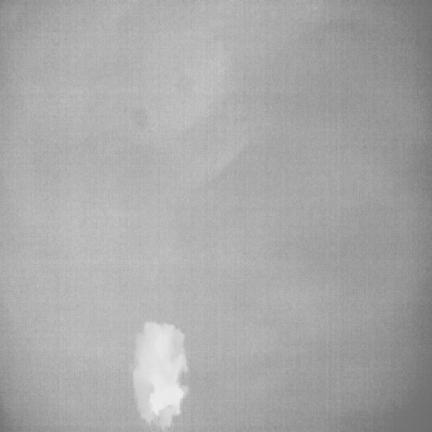flukeprints: (133, 321, 187, 427)
